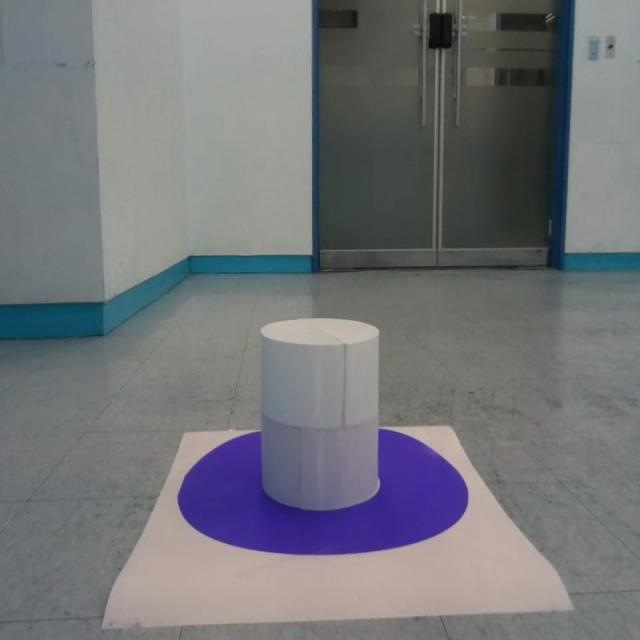cylinder: (258, 317, 380, 511)
